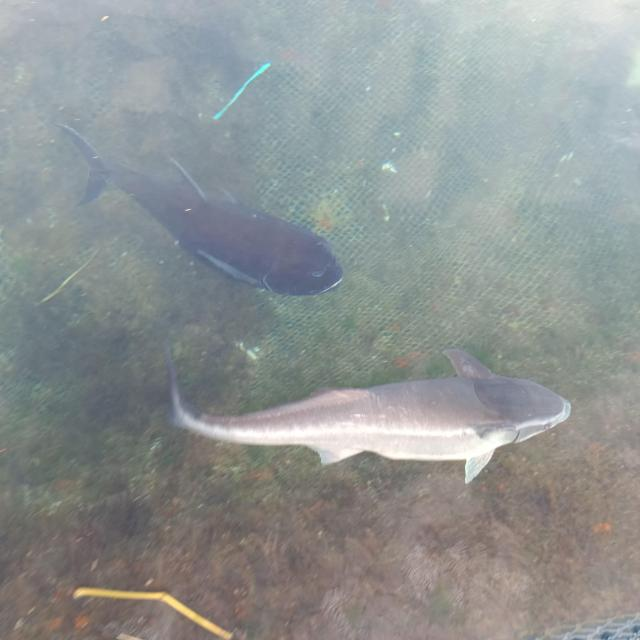ikan: (164, 341, 572, 485), (53, 120, 344, 298)
